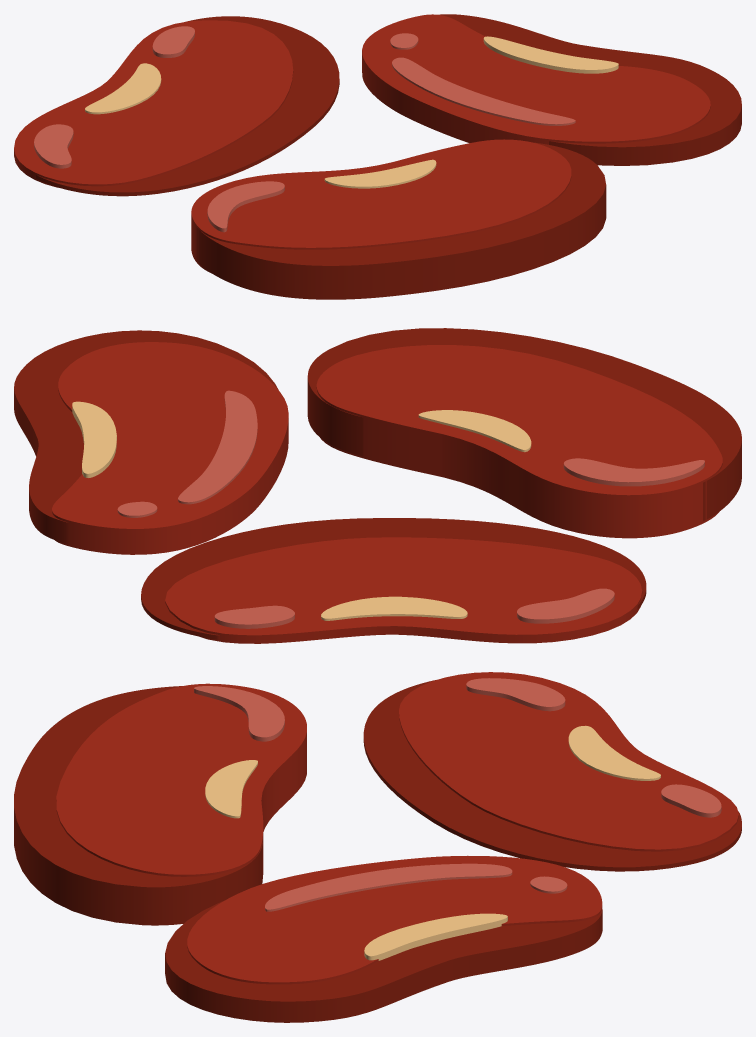
The model's file is emoji_u1fad8.glb.
The picture shows the model from 3 angles, top to bottom: view 1: azimuth 30°, elevation 25°; view 2: azimuth 150°, elevation 25°; view 3: azimuth 270°, elevation 25°; orthographic projection. The views are drawn at different scales.
Visible parts, largest first — view 1: emoji_u1fad8; view 2: emoji_u1fad8; view 3: emoji_u1fad8.
Part boxes in pixels (bbox=[...]): emoji_u1fad8: bbox=[14, 14, 741, 299]; emoji_u1fad8: bbox=[14, 328, 741, 643]; emoji_u1fad8: bbox=[14, 672, 741, 1022].
Bounding box in the file's own units: 0.034 × 0.0024 × 0.0311.
